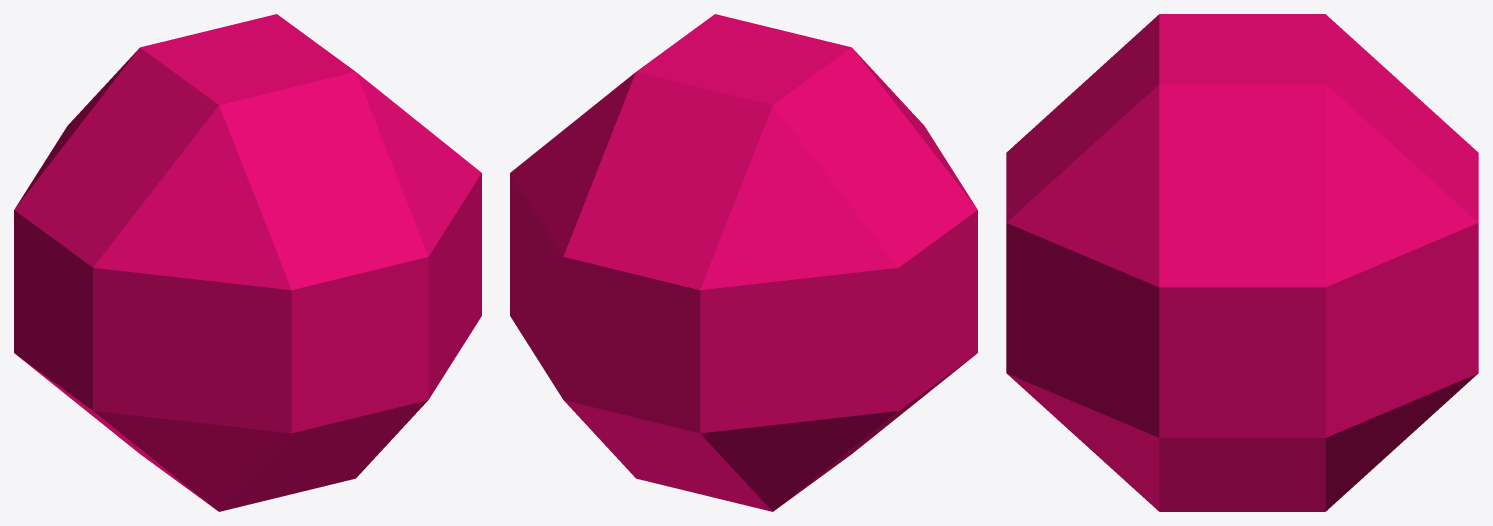
The picture shows the model from 3 angles, left to right: view 1: azimuth 30°, elevation 25°; view 2: azimuth 150°, elevation 25°; view 3: azimuth 270°, elevation 25°; orthographic projection. The views are drawn at different scales.
Visible parts, largest first — view 1: Cube; view 2: Cube; view 3: Cube.
Boxes of the visible parts, x1,y1,x2,y2 form: Cube: (14, 14, 481, 511); Cube: (510, 14, 977, 511); Cube: (1006, 14, 1478, 511).
Size of the model in its own units: 2 by 2 by 2.
